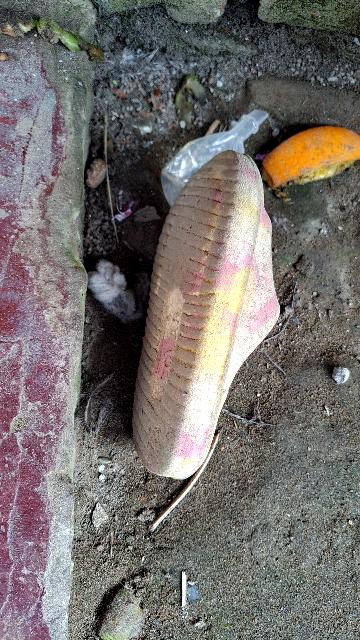sandal: (125, 143, 286, 476)
